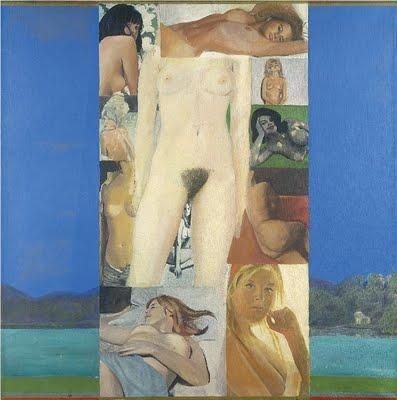person: (129, 47, 255, 290), (226, 266, 309, 400), (101, 297, 212, 396), (158, 1, 308, 57), (244, 168, 313, 264), (102, 164, 140, 292), (100, 2, 146, 96), (248, 109, 311, 167), (101, 94, 133, 163), (260, 58, 291, 107)
